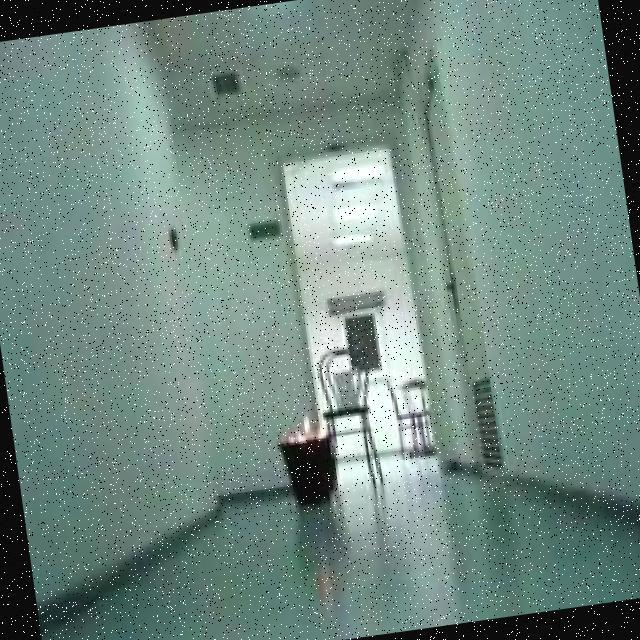Fire: (281, 414, 333, 448)
